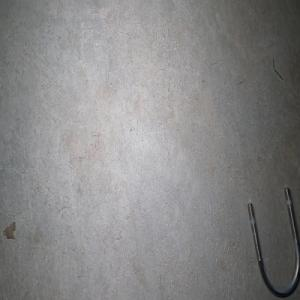ClampPart: (246, 185, 300, 298)
